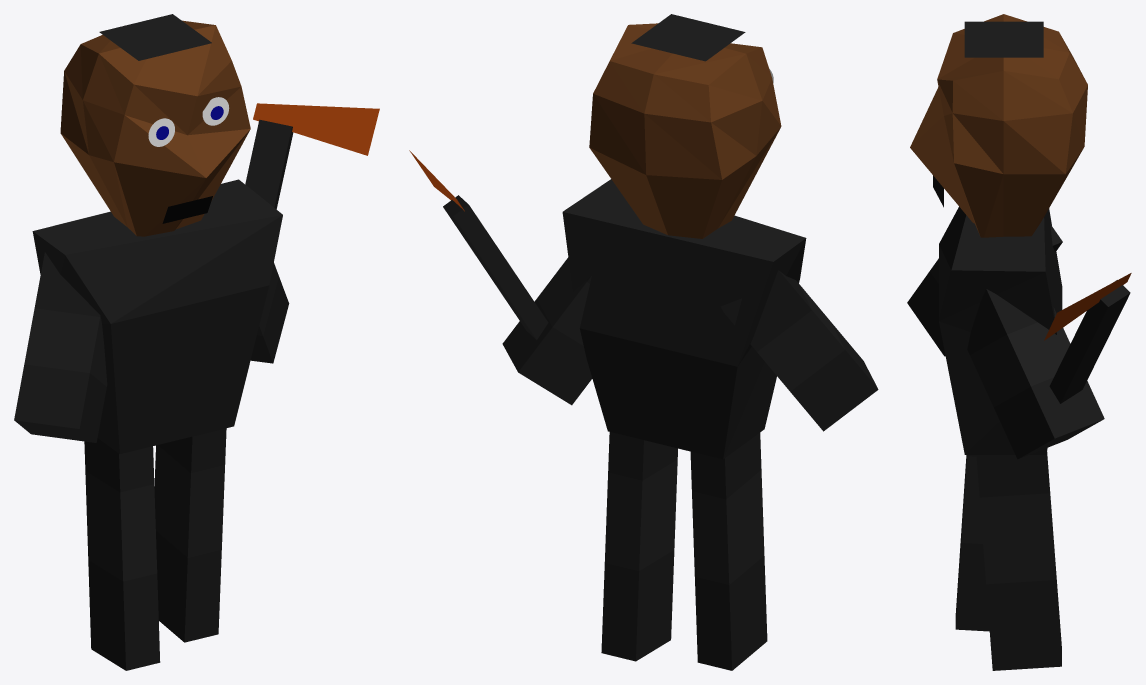
File: axeman1f.obj
3 views of the same model, side by side, from view 1: azimuth 30°, elevation 25°; view 2: azimuth 150°, elevation 25°; view 3: azimuth 270°, elevation 25° (orthographic).
Visible parts, largest first — view 1: Cube.001, Cube, Cube.004, Cube.005, Cube.003, Plane.001, Plane.002, Cube.007, Cube.002, Plane; view 2: Cube.001, Cube, Cube.004, Cube.005, Cube.003, Cube.002, Cube.007, Plane.002; view 3: Cube, Cube.005, Cube.001, Cube.002, Cube.004, Cube.007, Plane.002, Cube.003, Plane.001.
Part boxes in pixels (<box>): Cube.001: <box>32,179,282,453</box>; Cube: <box>60,20,250,236</box>; Cube.004: <box>84,438,160,670</box>; Cube.005: <box>154,428,226,642</box>; Cube.003: <box>14,252,107,442</box>; Plane.001: <box>253,103,379,155</box>; Plane.002: <box>99,14,211,60</box>; Cube.007: <box>245,119,293,209</box>; Cube.002: <box>250,262,289,363</box>; Plane: <box>162,196,212,223</box>; Cube.001: <box>562,179,806,459</box>; Cube: <box>589,23,781,238</box>; Cube.004: <box>690,432,767,670</box>; Cube.005: <box>601,432,677,661</box>; Cube.003: <box>720,270,878,431</box>; Cube.002: <box>502,257,592,405</box>; Cube.007: <box>443,195,548,339</box>; Plane.002: <box>631,14,745,61</box>; Cube: <box>910,14,1087,237</box>; Cube.005: <box>976,452,1061,670</box>; Cube.001: <box>939,206,1062,454</box>; Cube.002: <box>967,289,1104,459</box>; Cube.004: <box>955,455,989,631</box>; Cube.007: <box>1049,280,1130,403</box>; Plane.002: <box>964,21,1043,57</box>; Cube.003: <box>907,224,1062,356</box>; Plane.001: <box>1044,273,1131,340</box>.
Bounding box in the file's own units: 4.22 × 5.88 × 1.99.
